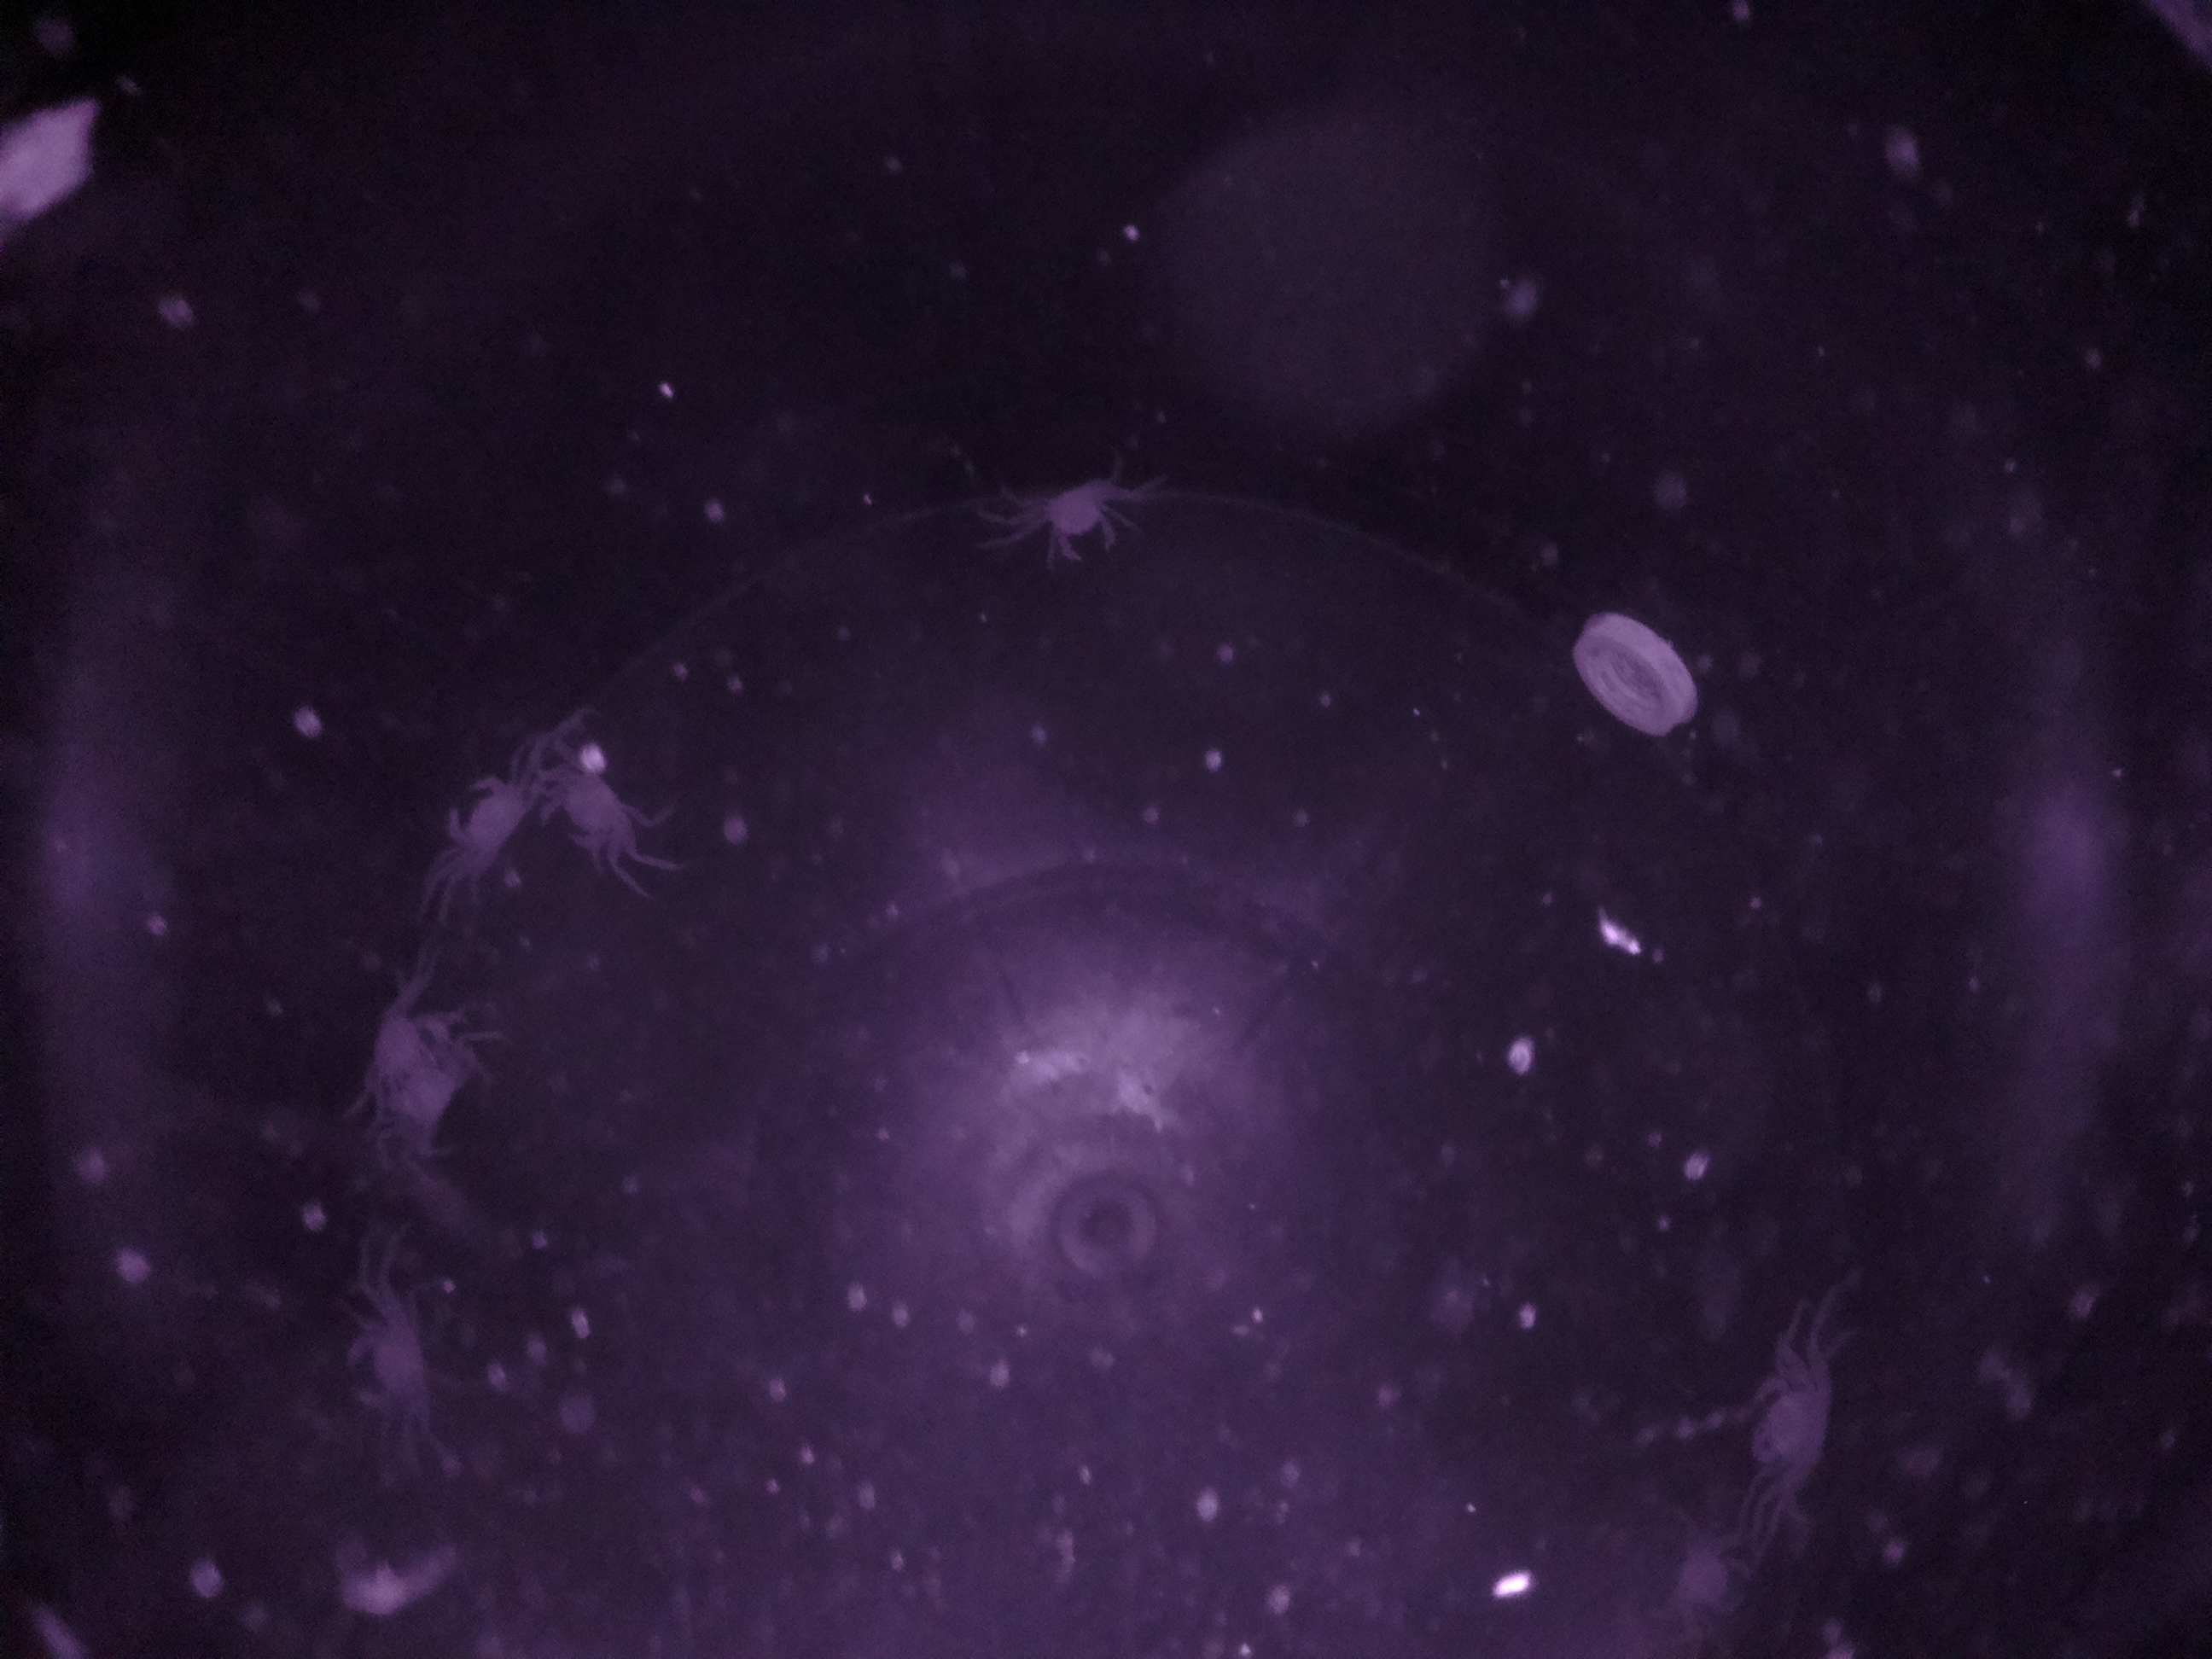Crab: (322, 1277, 469, 1452), (526, 721, 679, 882), (1712, 1352, 1869, 1500), (416, 758, 545, 894), (1015, 464, 1132, 584)
